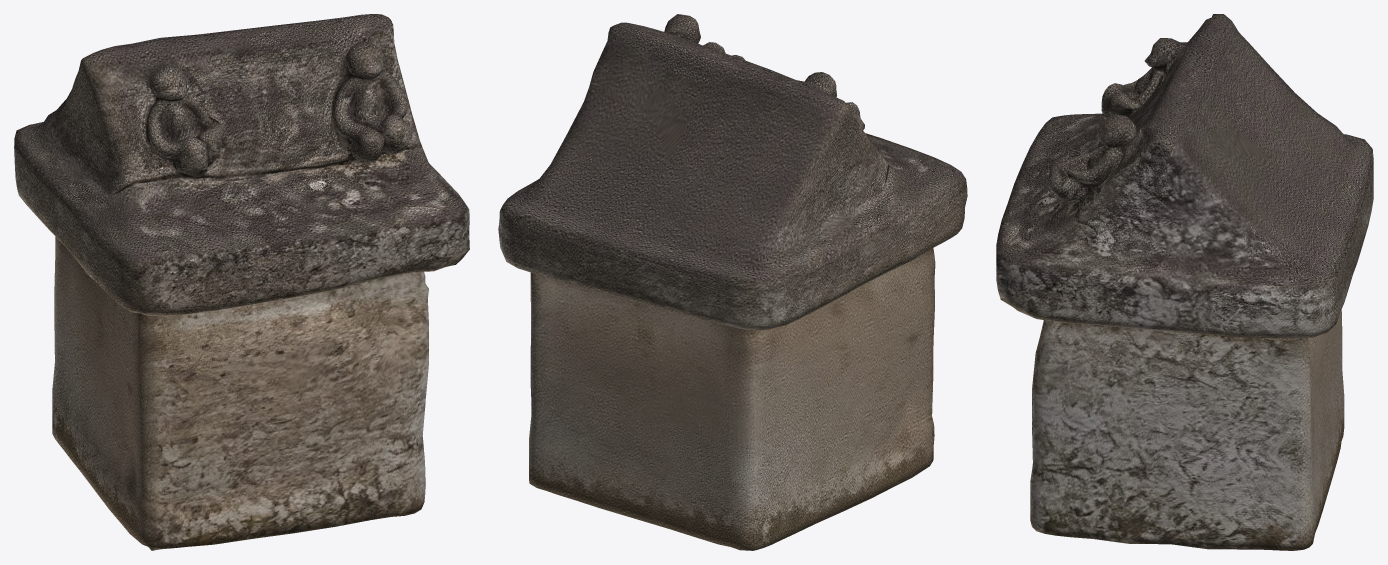
File: waruga.glb
3 renders of one model, left to right at view 1: azimuth 30°, elevation 25°; view 2: azimuth 150°, elevation 25°; view 3: azimuth 270°, elevation 25°, orthographic. The views are drawn at different scales.
Visible parts, largest first — view 1: tripo_node_71b7bf2e-87be-470e-b9ce-f8c56fee9bbe; view 2: tripo_node_71b7bf2e-87be-470e-b9ce-f8c56fee9bbe; view 3: tripo_node_71b7bf2e-87be-470e-b9ce-f8c56fee9bbe.
Boxes of the visible parts, <box> form: tripo_node_71b7bf2e-87be-470e-b9ce-f8c56fee9bbe: <box>14,14,469,550</box>; tripo_node_71b7bf2e-87be-470e-b9ce-f8c56fee9bbe: <box>498,14,967,550</box>; tripo_node_71b7bf2e-87be-470e-b9ce-f8c56fee9bbe: <box>996,14,1373,550</box>.
Bounding box in the file's own units: 0.8457 × 0.998 × 0.8262.
1 material, 1 textured.
